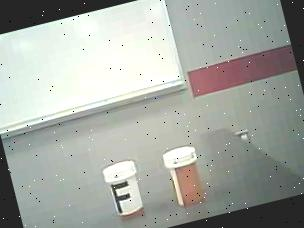Bottle F: (96, 155, 152, 228)
